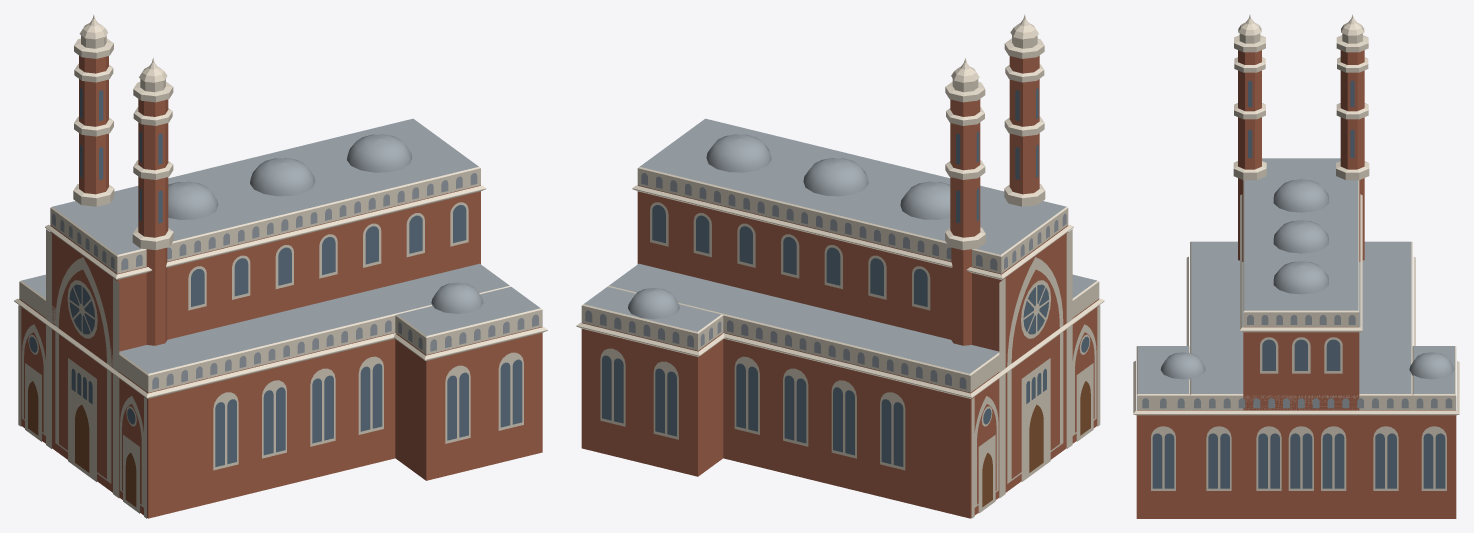
Rendered from cin-plum-street-temple.glb.
3 renders of one model, left to right at view 1: azimuth 30°, elevation 25°; view 2: azimuth 150°, elevation 25°; view 3: azimuth 270°, elevation 25°, orthographic. The views are drawn at different scales.
Parts seen in each view (by area): view 1: Plum Street Temple; view 2: Plum Street Temple; view 3: Plum Street Temple.
Boxes of the visible parts, x1,y1,x2,y2 form: Plum Street Temple: (14,14,547,518); Plum Street Temple: (576,14,1104,518); Plum Street Temple: (1133,14,1459,518).
Bounding box in the file's own units: 38.2 × 42 × 33.7.
